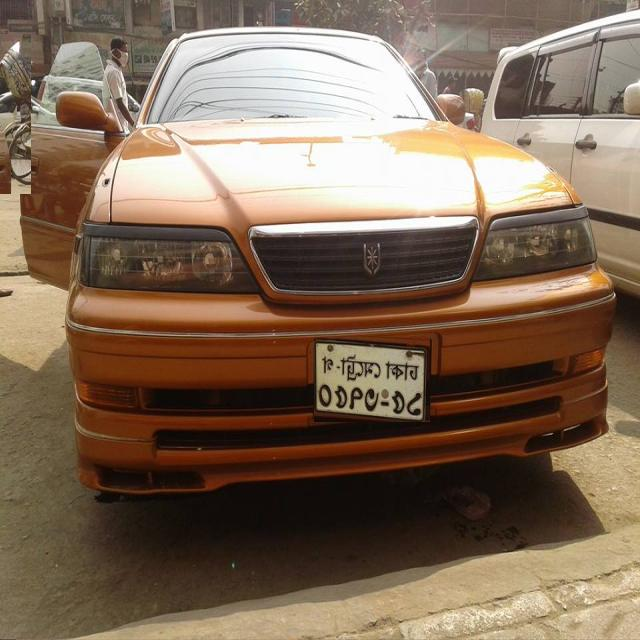Rickshaw: (0, 34, 31, 194)
numberplate: (314, 337, 430, 422)
